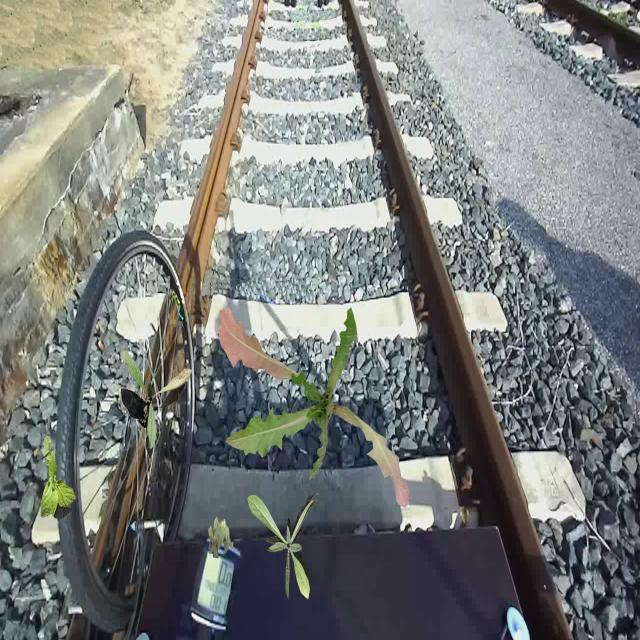Plant: (218, 306, 410, 508), (247, 493, 318, 601), (121, 350, 192, 450), (41, 436, 76, 520), (208, 516, 234, 558)
